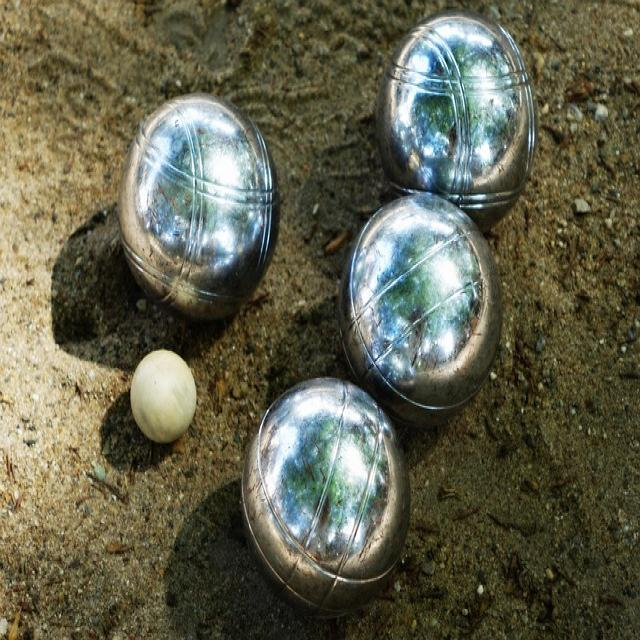hatball: (120, 338, 206, 457)
petanque: (225, 363, 415, 635), (334, 190, 512, 434), (114, 85, 284, 337), (376, 5, 554, 239)
